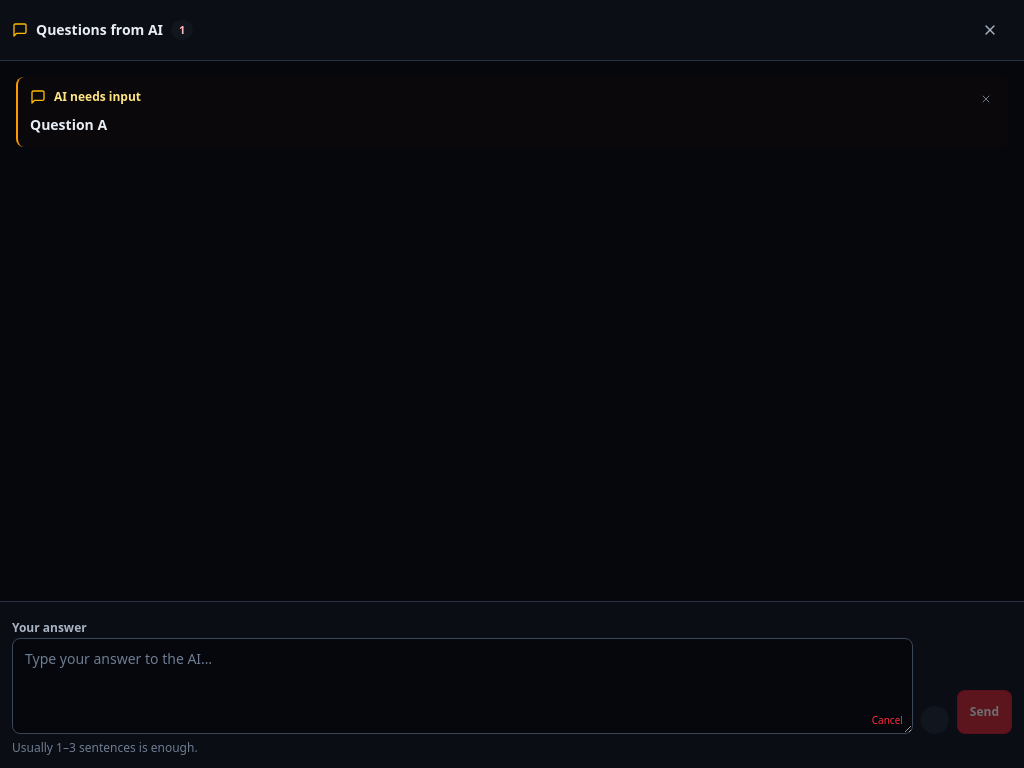
Test: QuestionPanel › failed submit keeps the draft in the composer
This screenshot has width=1024, height=768.
Step 1. Type "keep me" into the text box labelled "Your answer" → (462, 686), box [12, 638, 913, 734]
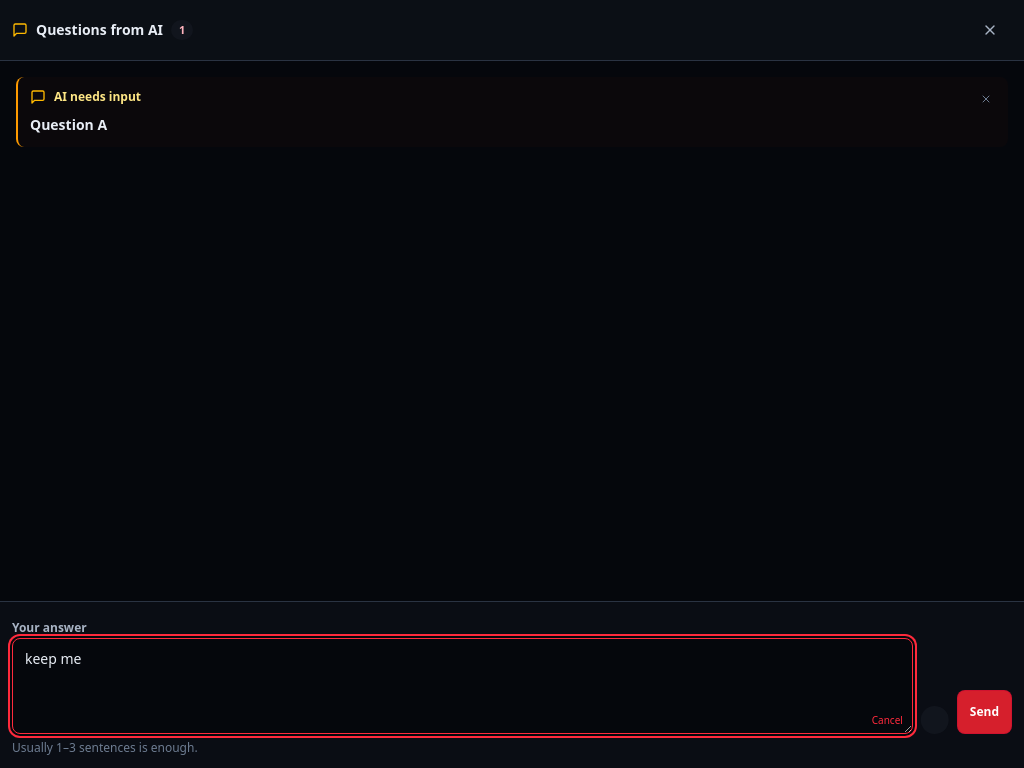
Step 2. Press Enter
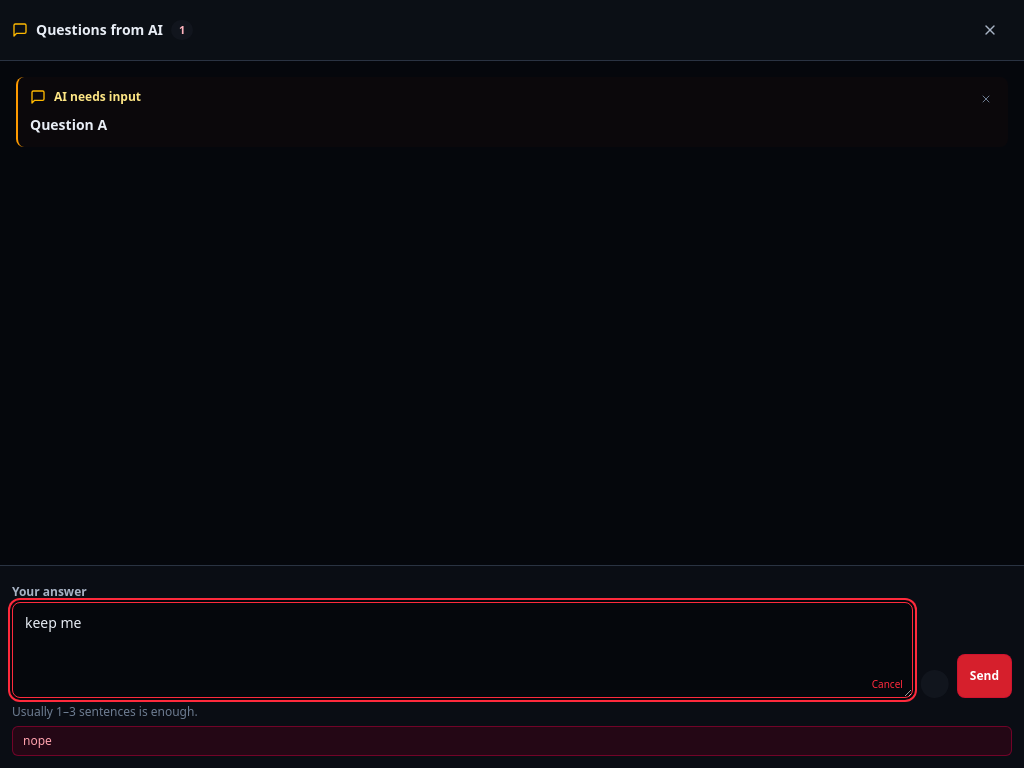
Result: the message "nope" is shown at [12, 726, 1012, 756]
